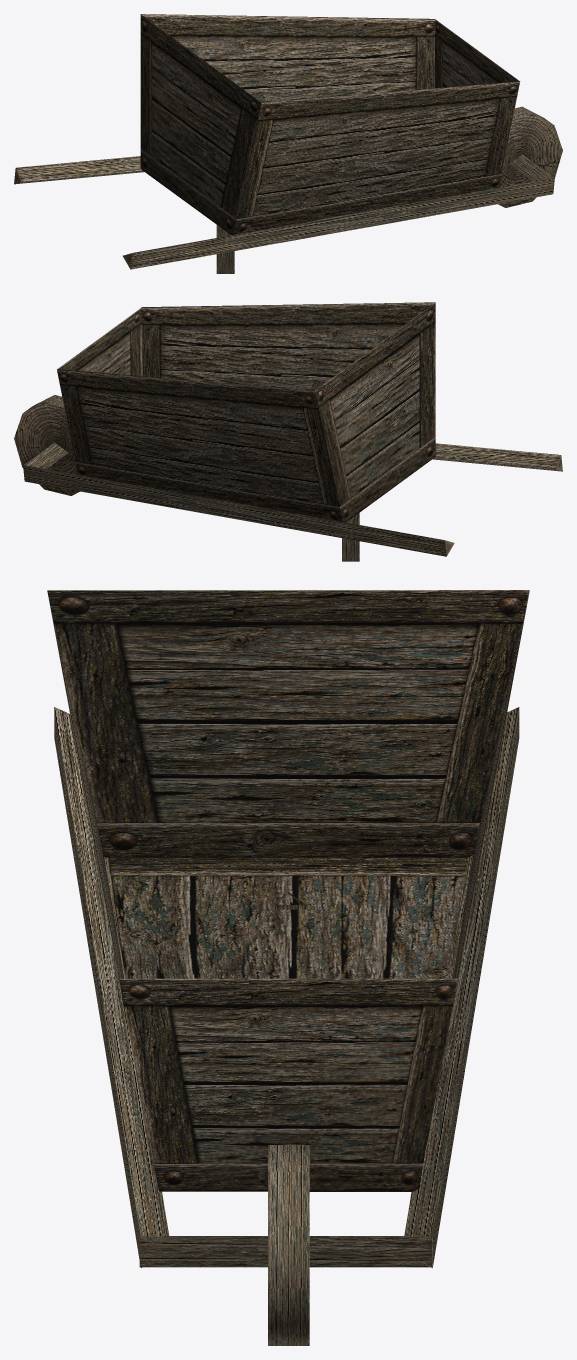
The model's file is mm9_deco_cart01.glb.
The picture shows the model from 3 angles, top to bottom: view 1: azimuth 30°, elevation 25°; view 2: azimuth 150°, elevation 25°; view 3: azimuth 270°, elevation 25°; orthographic projection. The views are drawn at different scales.
Parts seen in each view (by area): view 1: Cart01; view 2: Cart01; view 3: Cart01.
Boxes of the visible parts, x1,y1,x2,y2 form: Cart01: (14, 14, 562, 273); Cart01: (14, 302, 562, 561); Cart01: (47, 590, 529, 1345).
Bounding box in the file's own units: 2.7 × 1.17 × 1.16.
Materials: 2 (2 with a texture image).
